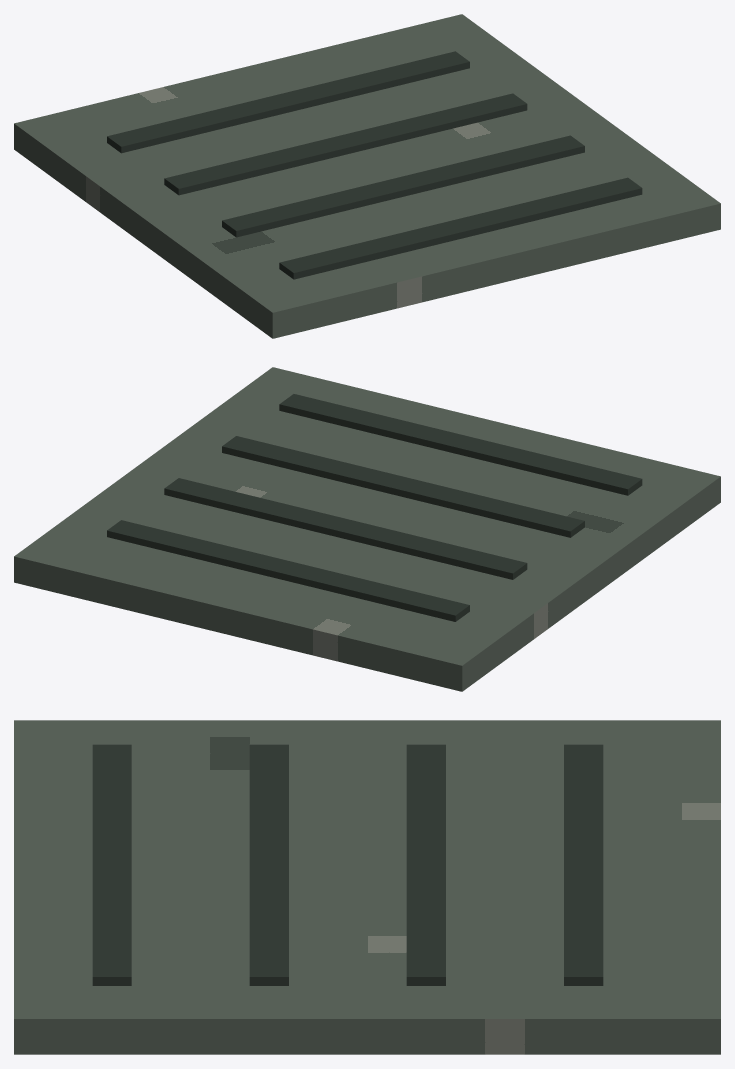
File: manhole.gltf
3 renders of one model, top to bottom at view 1: azimuth 30°, elevation 25°; view 2: azimuth 150°, elevation 25°; view 3: azimuth 270°, elevation 25°, orthographic. The views are drawn at different scales.
Visible parts, largest first — view 1: cover, ridge (×4); view 2: cover, ridge (×4); view 3: cover, ridge (×4).
Part boxes in pixels (<box>): cover: <box>14,14,720,338</box>; ridge (×4): <box>107,51,642,279</box>; cover: <box>14,367,720,691</box>; ridge (×4): <box>107,394,642,621</box>; cover: <box>14,720,720,1054</box>; ridge (×4): <box>92,744,603,985</box>.
Bounding box in the file's own units: 1.12 × 0.0781 × 1.12.
2 materials, 2 textured.
